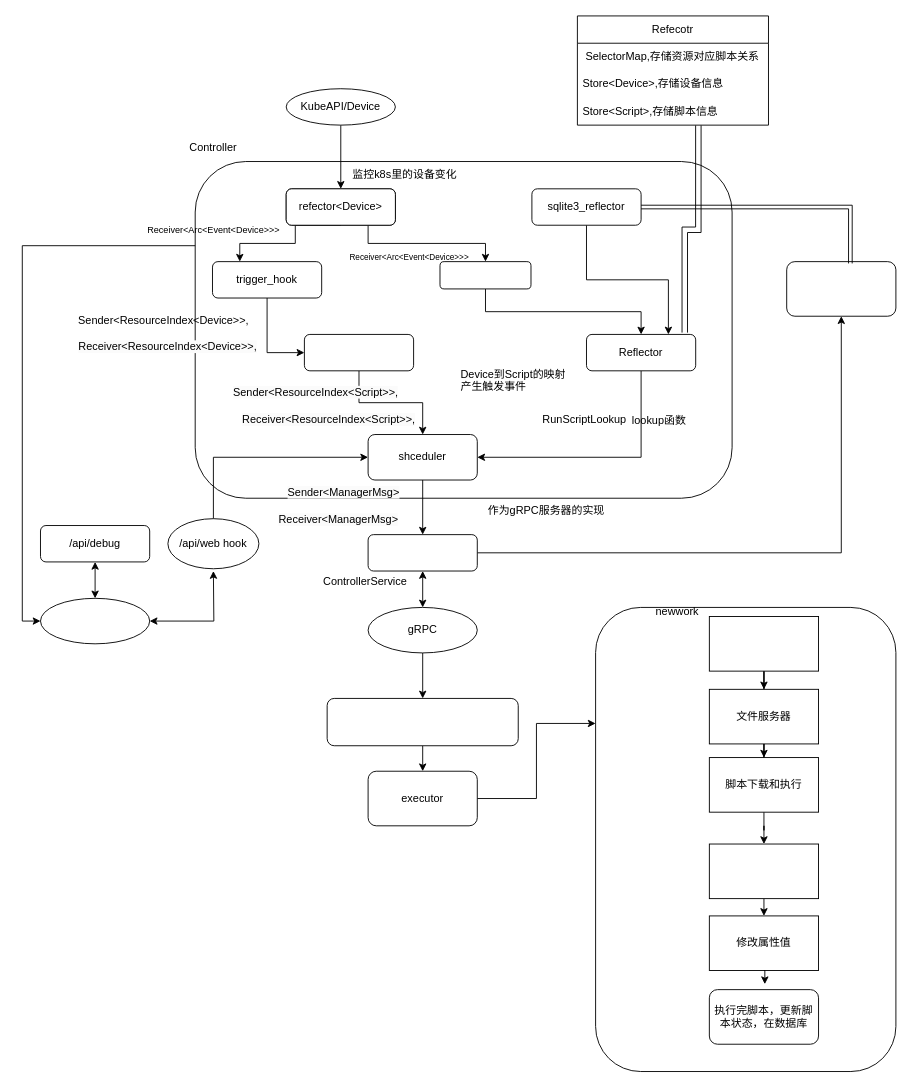
Some shapes in this 912 by 1087 pixel diagram are drawn without their labels. The centre of each missing label's shape, as x and y in pixels:
"ControllerServiceClient" goes at point (422, 722).
"device_hook" goes at point (485, 275).
"filter服务器" goes at point (763, 871).
"http" goes at point (95, 620).
"JavaScript运行时" goes at point (763, 643).
"SessionManager" goes at point (422, 552).
"trigegr" goes at point (358, 352).
"数据库" goes at point (841, 288).
